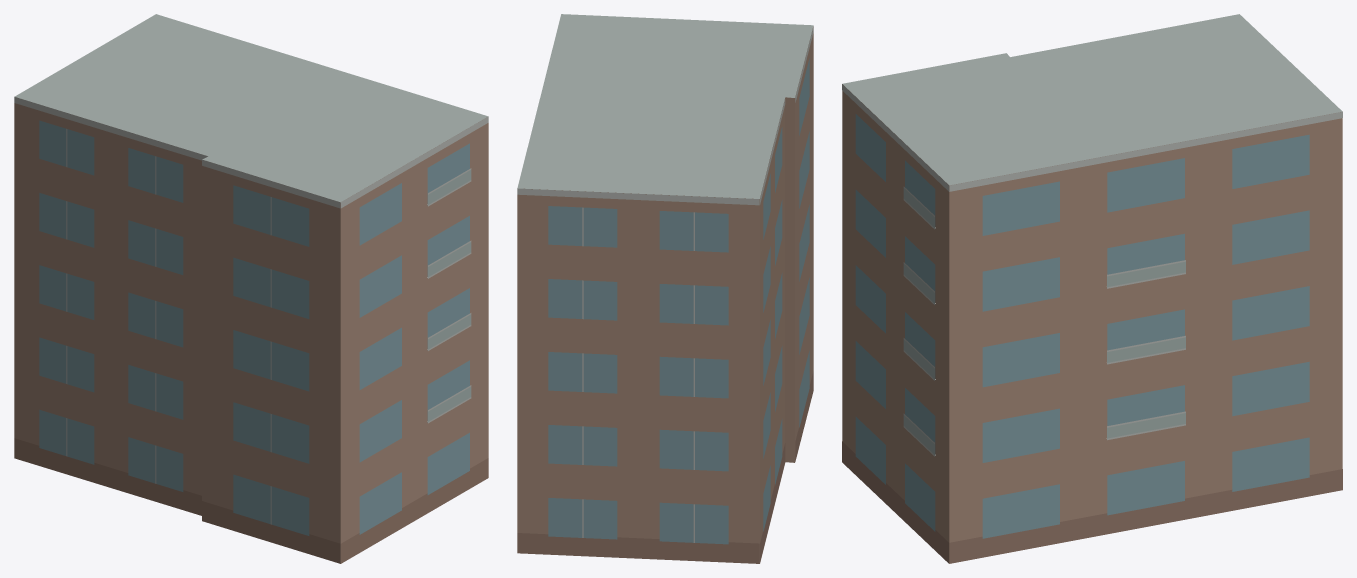
File: survey-upis-32906648.glb
3 views of the same model, side by side, from view 1: azimuth 30°, elevation 25°; view 2: azimuth 150°, elevation 25°; view 3: azimuth 270°, elevation 25° (orthographic). The views are drawn at different scales.
Visible parts, largest first — view 1: survey-upis-32906648.tmp; view 2: survey-upis-32906648.tmp; view 3: survey-upis-32906648.tmp.
Boxes of the visible parts, x1,y1,x2,y2 form: survey-upis-32906648.tmp: (14, 14, 488, 563); survey-upis-32906648.tmp: (517, 14, 813, 563); survey-upis-32906648.tmp: (842, 14, 1342, 563).
Bounding box in the file's own units: 13.75 × 14.15 × 16.98.
